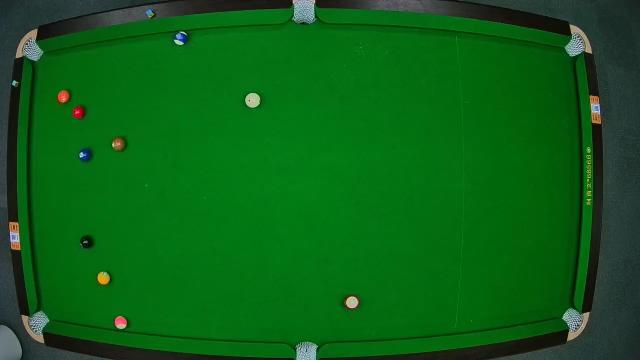bag1: (19, 36, 45, 64)
bag2: (292, 0, 316, 26)
bag3: (563, 30, 589, 57)
bag4: (25, 309, 51, 339)
bag5: (294, 340, 318, 360)
bag6: (560, 306, 586, 334)
ball0: (244, 92, 262, 110)
ball1: (96, 270, 112, 286)
ball10: (172, 30, 190, 46)
ball11: (344, 294, 360, 312)
ball12: (112, 314, 128, 330)
ball2: (78, 148, 92, 162)
ball3: (71, 106, 87, 120)
ball5: (56, 89, 72, 105)
ball7: (111, 136, 127, 154)
ball8: (79, 236, 95, 253)
